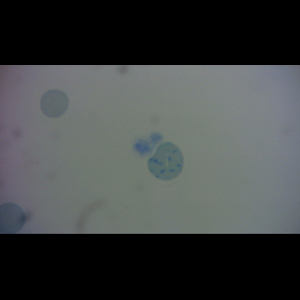aggregate reticulocyte: (147, 142, 184, 181)
erythrocyte: (39, 89, 70, 119)
